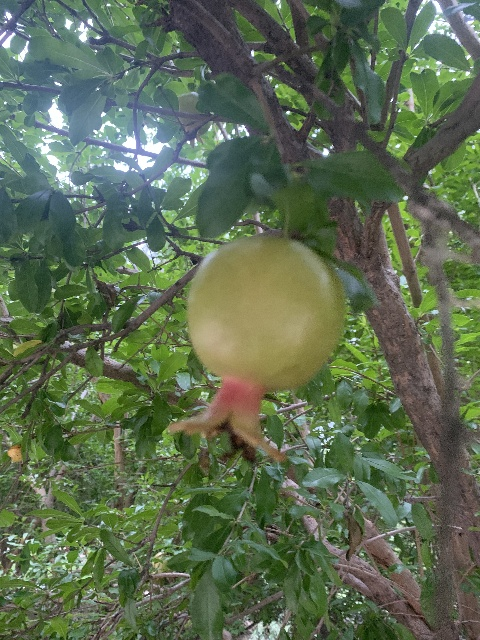mid-growth: (169, 234, 346, 461)
